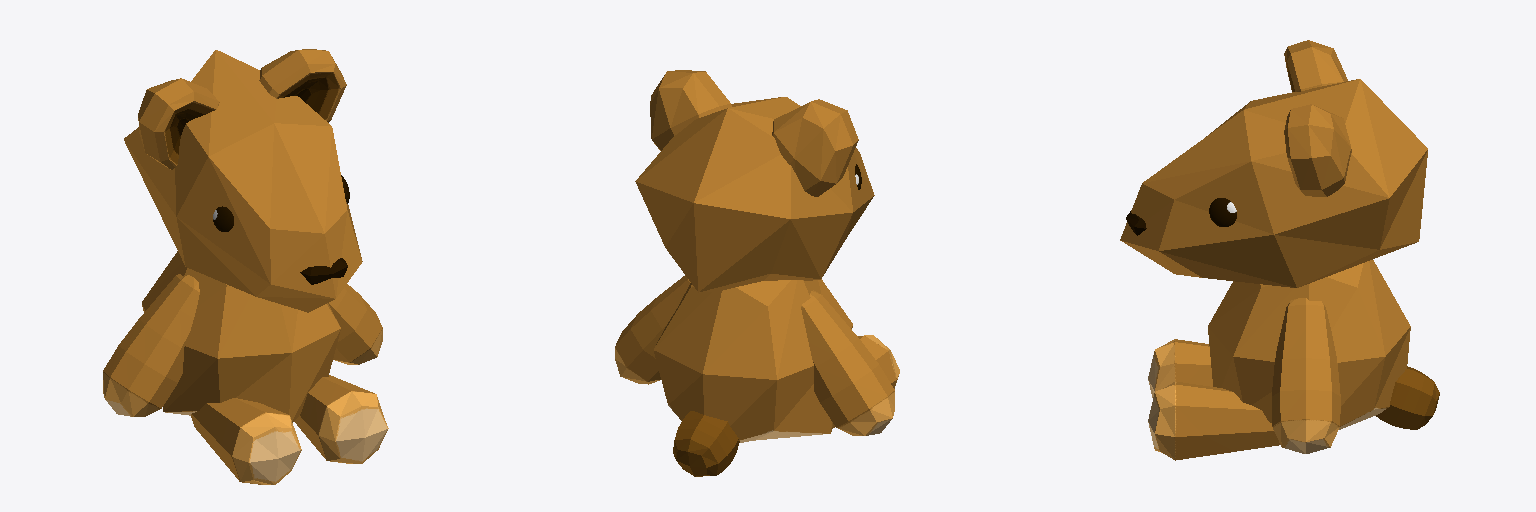
The picture shows the model from 3 angles: view 1: azimuth 30°, elevation 25°; view 2: azimuth 150°, elevation 25°; view 3: azimuth 270°, elevation 25°; orthographic projection.
Visible parts, largest first — view 1: pCube6 pCube9, pCube6, pCube6 pCube14, pCube6 pCube13, pCube6 pCube7, pCube6 pCube9 pCube15, pCube6 pCube9 pCube5, pCube6 pCube12, pCube6 pCube9 pCube4; view 2: pCube6 pCube9, pCube6, pCube6 pCube14, pCube6 pCube9 pCube15, pCube6 pCube9 pCube5, pCube6 pCube12, pCube6 pCube10, pCube6 pCube13; view 3: pCube6 pCube9, pCube6, pCube6 pCube12, pCube6 pCube7, pCube6 pCube9 pCube5, pCube6 pCube13, pCube6 pCube10, pCube6 pCube9 pCube15, pCube6 pCube9 pSphere1.
Boxes of the visible parts, x1=… form: pCube6 pCube9: x1=124, y1=50, x2=362, y2=312; pCube6: x1=142, y1=251, x2=340, y2=422; pCube6 pCube14: x1=103, y1=274, x2=199, y2=416; pCube6 pCube13: x1=191, y1=398, x2=301, y2=484; pCube6 pCube7: x1=294, y1=375, x2=388, y2=463; pCube6 pCube9 pCube15: x1=138, y1=78, x2=219, y2=169; pCube6 pCube9 pCube5: x1=259, y1=49, x2=346, y2=122; pCube6 pCube12: x1=328, y1=284, x2=382, y2=364; pCube6 pCube9 pCube4: x1=300, y1=258, x2=347, y2=284; pCube6 pCube9: x1=635, y1=97, x2=874, y2=292; pCube6: x1=654, y1=279, x2=852, y2=442; pCube6 pCube14: x1=801, y1=290, x2=894, y2=435; pCube6 pCube9 pCube15: x1=772, y1=99, x2=858, y2=196; pCube6 pCube9 pCube5: x1=650, y1=70, x2=731, y2=150; pCube6 pCube12: x1=615, y1=275, x2=690, y2=384; pCube6 pCube10: x1=673, y1=411, x2=739, y2=476; pCube6 pCube13: x1=832, y1=335, x2=899, y2=428; pCube6 pCube9: x1=1120, y1=79, x2=1427, y2=287; pCube6: x1=1208, y1=260, x2=1410, y2=429; pCube6 pCube12: x1=1272, y1=298, x2=1340, y2=453; pCube6 pCube7: x1=1148, y1=381, x2=1279, y2=460; pCube6 pCube9 pCube5: x1=1284, y1=104, x2=1351, y2=196; pCube6 pCube13: x1=1148, y1=339, x2=1212, y2=397; pCube6 pCube10: x1=1376, y1=366, x2=1439, y2=429; pCube6 pCube9 pCube15: x1=1284, y1=40, x2=1347, y2=91; pCube6 pCube9 pSphere1: x1=1209, y1=198, x2=1236, y2=226.
Size of the model in its own units: 5.81 by 7.26 by 5.83.
Materials: 1 (1 with a texture image).